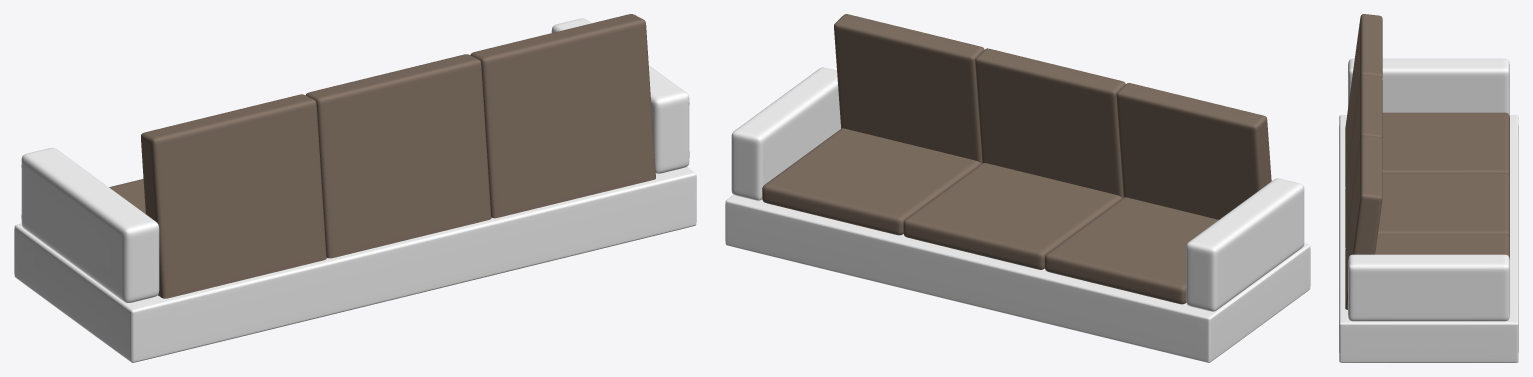
3 views of the same model, side by side, from view 1: azimuth 30°, elevation 25°; view 2: azimuth 150°, elevation 25°; view 3: azimuth 270°, elevation 25° (orthographic). The views are drawn at different scales.
Visible parts, largest first — view 1: MainCouch_Base, MainCouch_BackCushion_1, MainCouch_BackCushion_3, MainCouch_BackCushion_2, MainCouch_Armrest_Left, MainCouch_Armrest_Right, MainCouch_SeatCushion_1; view 2: MainCouch_Base, MainCouch_BackCushion_2, MainCouch_BackCushion_3, MainCouch_BackCushion_1, MainCouch_SeatCushion_3, MainCouch_SeatCushion_2, MainCouch_SeatCushion_1, MainCouch_Armrest_Left, MainCouch_Armrest_Right; view 3: MainCouch_Armrest_Right, MainCouch_Base, MainCouch_SeatCushion_2, MainCouch_SeatCushion_1, MainCouch_Armrest_Left, MainCouch_BackCushion_3, MainCouch_SeatCushion_3, MainCouch_BackCushion_2, MainCouch_BackCushion_1.
Part boxes in pixels (<box>): MainCouch_Base: <box>14,167,696,362</box>; MainCouch_BackCushion_1: <box>141,94,326,298</box>; MainCouch_BackCushion_3: <box>470,14,655,218</box>; MainCouch_BackCushion_2: <box>305,54,491,258</box>; MainCouch_Armrest_Left: <box>21,147,159,302</box>; MainCouch_Armrest_Right: <box>551,18,689,173</box>; MainCouch_SeatCushion_1: <box>109,179,145,213</box>; MainCouch_Base: <box>725,195,1310,362</box>; MainCouch_BackCushion_2: <box>975,48,1125,197</box>; MainCouch_BackCushion_3: <box>834,14,984,163</box>; MainCouch_BackCushion_1: <box>1116,83,1271,219</box>; MainCouch_SeatCushion_3: <box>762,128,981,235</box>; MainCouch_SeatCushion_2: <box>903,163,1122,269</box>; MainCouch_SeatCushion_1: <box>1044,197,1218,304</box>; MainCouch_Armrest_Left: <box>1186,178,1304,311</box>; MainCouch_Armrest_Right: <box>731,67,840,200</box>; MainCouch_Armrest_Right: <box>1348,254,1509,321</box>; MainCouch_Base: <box>1339,115,1518,362</box>; MainCouch_SeatCushion_2: <box>1378,173,1509,238</box>; MainCouch_SeatCushion_1: <box>1382,112,1509,177</box>; MainCouch_Armrest_Left: <box>1348,58,1509,116</box>; MainCouch_BackCushion_3: <box>1345,135,1382,309</box>; MainCouch_SeatCushion_3: <box>1375,234,1509,259</box>; MainCouch_BackCushion_2: <box>1345,75,1382,247</box>; MainCouch_BackCushion_1: <box>1345,14,1382,186</box>.
Bounding box in the file's own units: 5.5 × 1.9 × 2.
